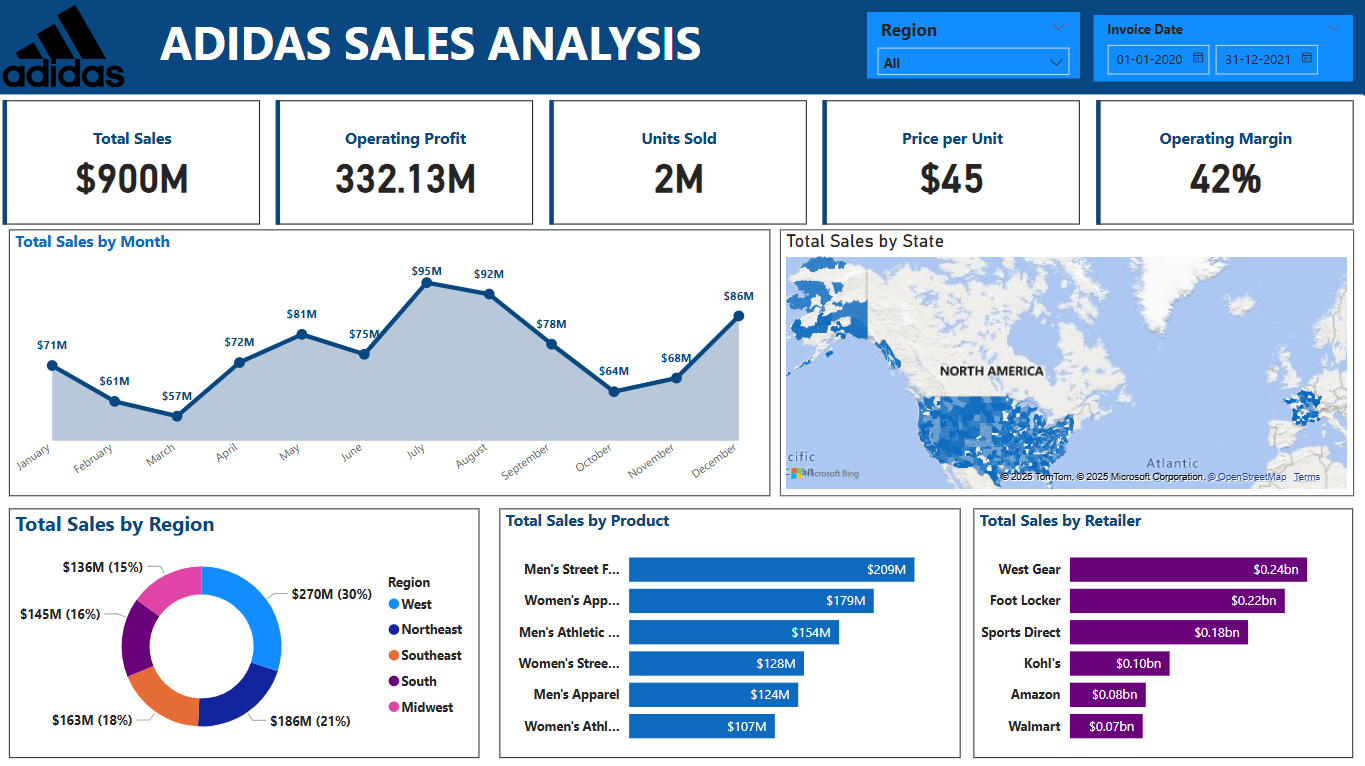

What the dashboard file says about the page in this screenshot:
{"tool":"powerbi","page":{"name":"Page 1","canvas":[1280,720],"ordinal":0},"visuals":[{"type":"shape","box":[0,0,1280,91.7],"z":0},{"type":"textbox","box":[146.7,6.7,546.7,76.7],"z":1000},{"type":"cardVisual","fields":{"Data":["Sum(Data Sales Adidas.Total Sales)","Sum(Data Sales Adidas.Operating Profit)","Sum(Data Sales Adidas.Units Sold)","Avg(Data Sales Adidas.Price per Unit)","Avg(Data Sales Adidas.Operating Margin)"]},"box":[0,91,1274,126],"z":2000},{"type":"areaChart","title":" Total Sales by Month","fields":{"Category":["Data Sales Adidas.Invoice Date.Variation.Date Hierarchy.Month"],"Y":["Sum(Data Sales Adidas.Total Sales)"]},"box":[11.7,216.7,710,248.3],"z":3000},{"type":"filledMap","title":"Total Sales by State","fields":{"Category":["Data Sales Adidas.Total Sales","Data Sales Adidas.State"]},"box":[730,216.7,535,248.3],"z":4000},{"type":"donutChart","title":" Total Sales by Region","fields":{"Category":["Data Sales Adidas.Region"],"Y":["Sum(Data Sales Adidas.Total Sales)"]},"box":[11.4,477.1,438.6,232.9],"z":5000},{"type":"barChart","title":" Total Sales by Product","fields":{"Category":["Data Sales Adidas.Product"],"Y":["Sum(Data Sales Adidas.Total Sales)"]},"box":[468.6,477.1,430,232.9],"z":6000},{"type":"barChart","title":" Total Sales by Retailer","fields":{"Y":["Sum(Data Sales Adidas.Total Sales)"],"Category":["Data Sales Adidas.Retailer"]},"box":[911.4,477.1,354.3,232.9],"z":7000},{"type":"slicer","fields":{"Values":["Data Sales Adidas.Region"]},"box":[811.7,13.3,198.3,61.7],"z":7001},{"type":"slicer","fields":{"Values":["Data Sales Adidas.Invoice Date"]},"box":[1023.3,16.7,241.7,61.7],"z":7002},{"type":"image","box":[0,0,123.3,91.7],"z":7003}]}

Visuals, with their boxes in screenshot pixels (x1, y1, x2, y2), scaled from the page's 1280x720 canvas onto the 1365x766 screenshot:
shape: box(0, 0, 1364, 98)
textbox: box(156, 7, 739, 89)
cardVisual - Sum(Data Sales Adidas.Total Sales) x Sum(Data Sales Adidas.Operating Profit): box(0, 97, 1359, 231)
" Total Sales by Month" areaChart: box(12, 231, 770, 495)
"Total Sales by State" filledMap: box(778, 231, 1349, 495)
" Total Sales by Region" donutChart: box(12, 508, 480, 755)
" Total Sales by Product" barChart: box(500, 508, 958, 755)
" Total Sales by Retailer" barChart: box(972, 508, 1350, 755)
slicer - Data Sales Adidas.Region: box(866, 14, 1077, 80)
slicer - Data Sales Adidas.Invoice Date: box(1091, 18, 1349, 83)
image: box(0, 0, 131, 98)
